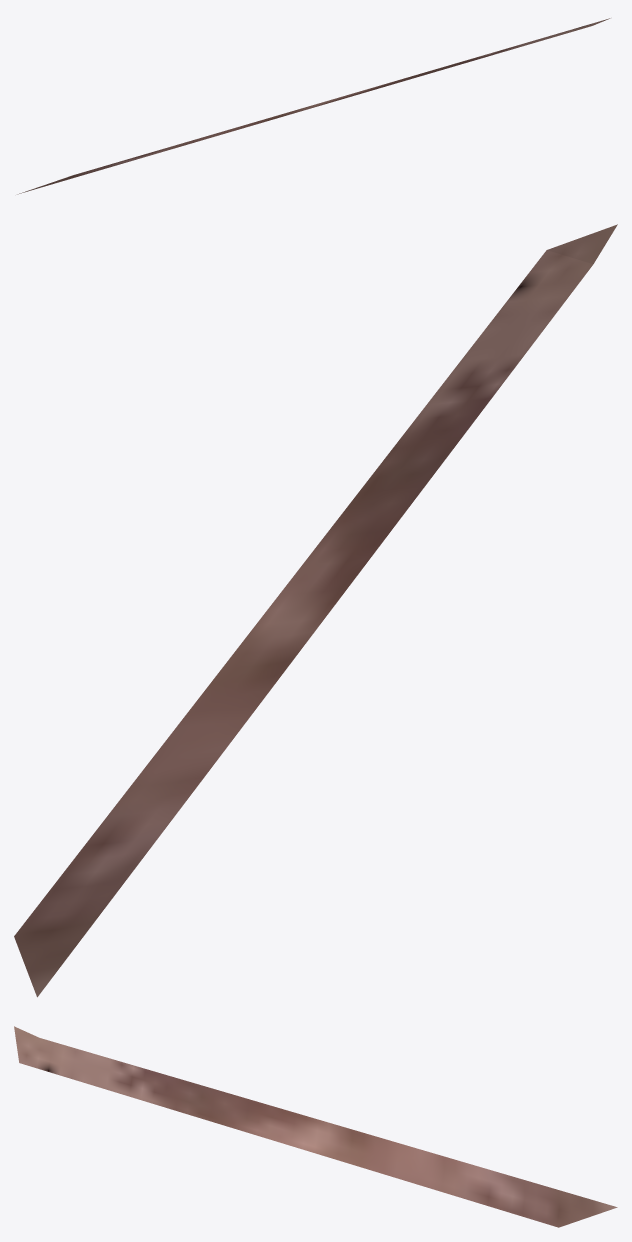
3 renders of one model, top to bottom at view 1: azimuth 90°, elevation 25°; view 2: azimuth 150°, elevation 25°; view 3: azimuth 270°, elevation 25°, orthographic. The views are drawn at different scales.
Bounding box in the file's own units: 0.0532 × 0.2209 × 0.6676.
1 material, 1 textured.
